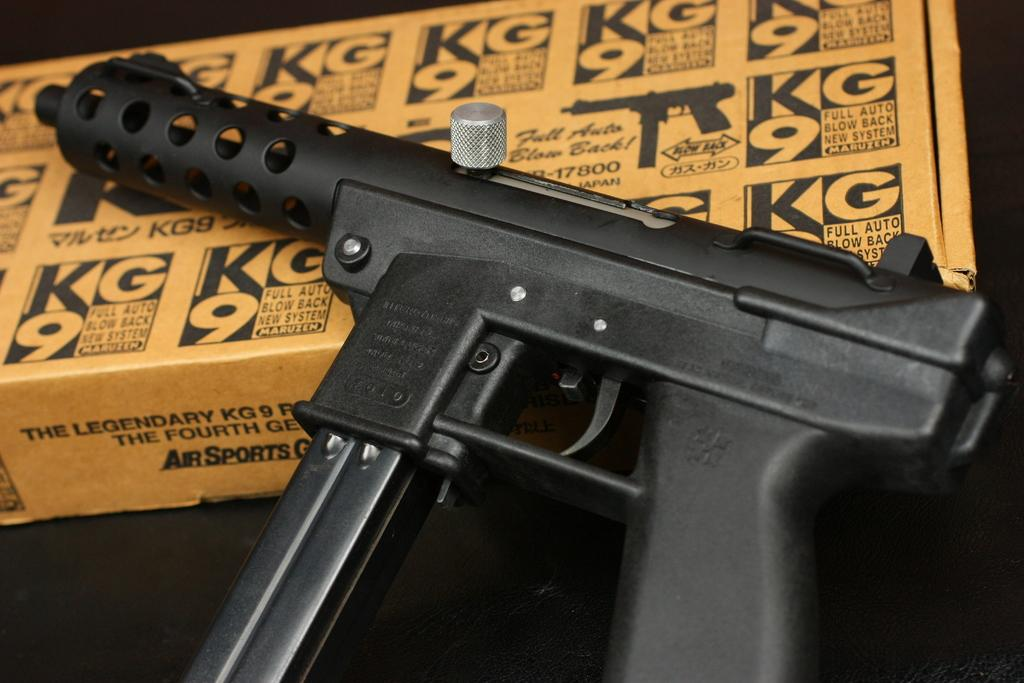Rifle: (36, 54, 1023, 682)
